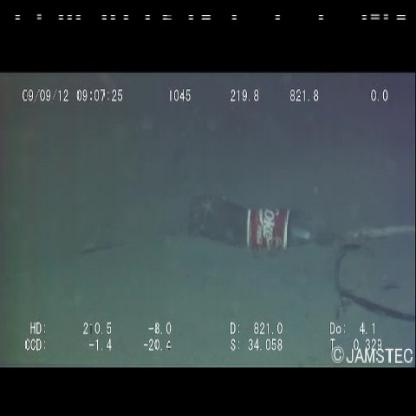Rác: (186, 187, 334, 266)
